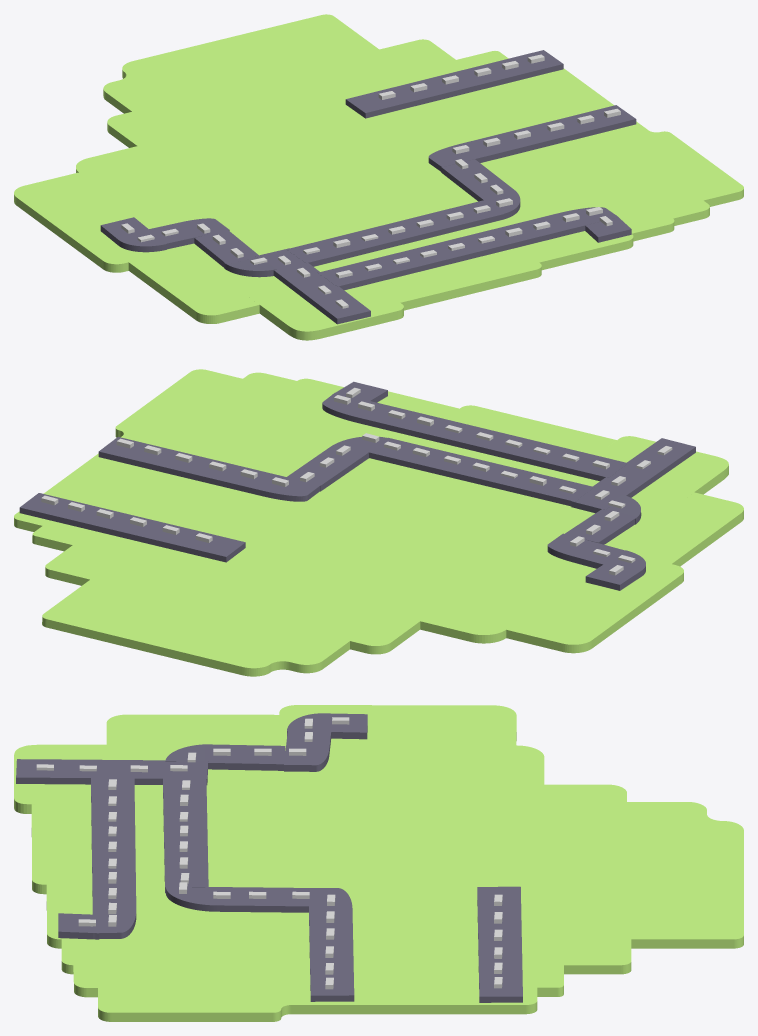
Rendered from ground__addroad.glb.
3 renders of one model, top to bottom at view 1: azimuth 30°, elevation 25°; view 2: azimuth 150°, elevation 25°; view 3: azimuth 270°, elevation 25°, orthographic. The views are drawn at different scales.
Visible parts, largest first — view 1: Cube, ลูกบาศก์, ลูกบาศก์.012, ลูกบาศก์.006, ลูกบาศก์.011, ลูกบาศก์.001, ลูกบาศก์.007, ลูกบาศก์.005, ลูกบาศก์.004, ลูกบาศก์.003, ลูกบาศก์.013, ลูกบาศก์.002; view 2: Cube, ลูกบาศก์, ลูกบาศก์.012, ลูกบาศก์.006, ลูกบาศก์.011, ลูกบาศก์.001, ลูกบาศก์.007, ลูกบาศก์.003, ลูกบาศก์.005, ลูกบาศก์.004, ลูกบาศก์.013; view 3: Cube, ลูกบาศก์, ลูกบาศก์.012, ลูกบาศก์.011, ลูกบาศก์.006, ลูกบาศก์.001, ลูกบาศก์.007, ลูกบาศก์.004, ลูกบาศก์.003, ลูกบาศก์.005, ลูกบาศก์.013.
Boxes of the visible parts, <box> form: Cube: <box>14,14,743,340</box>; ลูกบาศก์: <box>317,207,618,290</box>; ลูกบาศก์.012: <box>345,50,563,118</box>; ลูกบาศก์.006: <box>287,200,504,266</box>; ลูกบาศก์.011: <box>428,105,636,171</box>; ลูกบาศก์.001: <box>255,248,370,324</box>; ลูกบาศก์.007: <box>441,159,520,219</box>; ลูกบาศก์.005: <box>100,217,166,252</box>; ลูกบาศก์.004: <box>194,230,258,267</box>; ลูกบาศก์.003: <box>148,218,229,249</box>; ลูกบาศก์.013: <box>585,215,631,242</box>; ลูกบาศก์.002: <box>224,257,276,277</box>; Cube: <box>14,369,743,676</box>; ลูกบาศก์: <box>322,392,627,481</box>; ลูกบาศก์.012: <box>19,493,245,562</box>; ลูกบาศก์.006: <box>368,437,594,506</box>; ลูกบาศก์.011: <box>98,437,320,501</box>; ลูกบาศก์.001: <box>571,438,695,513</box>; ลูกบาศก์.007: <box>287,436,386,491</box>; ลูกบาศก์.003: <box>547,533,624,568</box>; ลูกบาศก์.005: <box>585,550,645,590</box>; ลูกบาศก์.004: <box>565,509,637,544</box>; ลูกบาศก์.013: <box>332,381,387,402</box>; Cube: <box>14,705,743,1021</box>; ลูกบาศก์: <box>91,777,136,939</box>; ลูกบาศก์.012: <box>477,886,522,1002</box>; ลูกบาศก์.011: <box>308,888,354,1001</box>; ลูกบาศก์.006: <box>163,777,208,893</box>; ลูกบาศก์.001: <box>16,759,208,784</box>; ลูกบาศก์.007: <box>166,887,308,912</box>; ลูกบาศก์.004: <box>204,744,285,770</box>; ลูกบาศก์.003: <box>284,731,331,771</box>; ลูกบาศก์.005: <box>287,713,367,739</box>; ลูกบาศก์.013: <box>58,913,99,939</box>.
Bounding box in the file's own units: 413 × 14.12 × 414.
